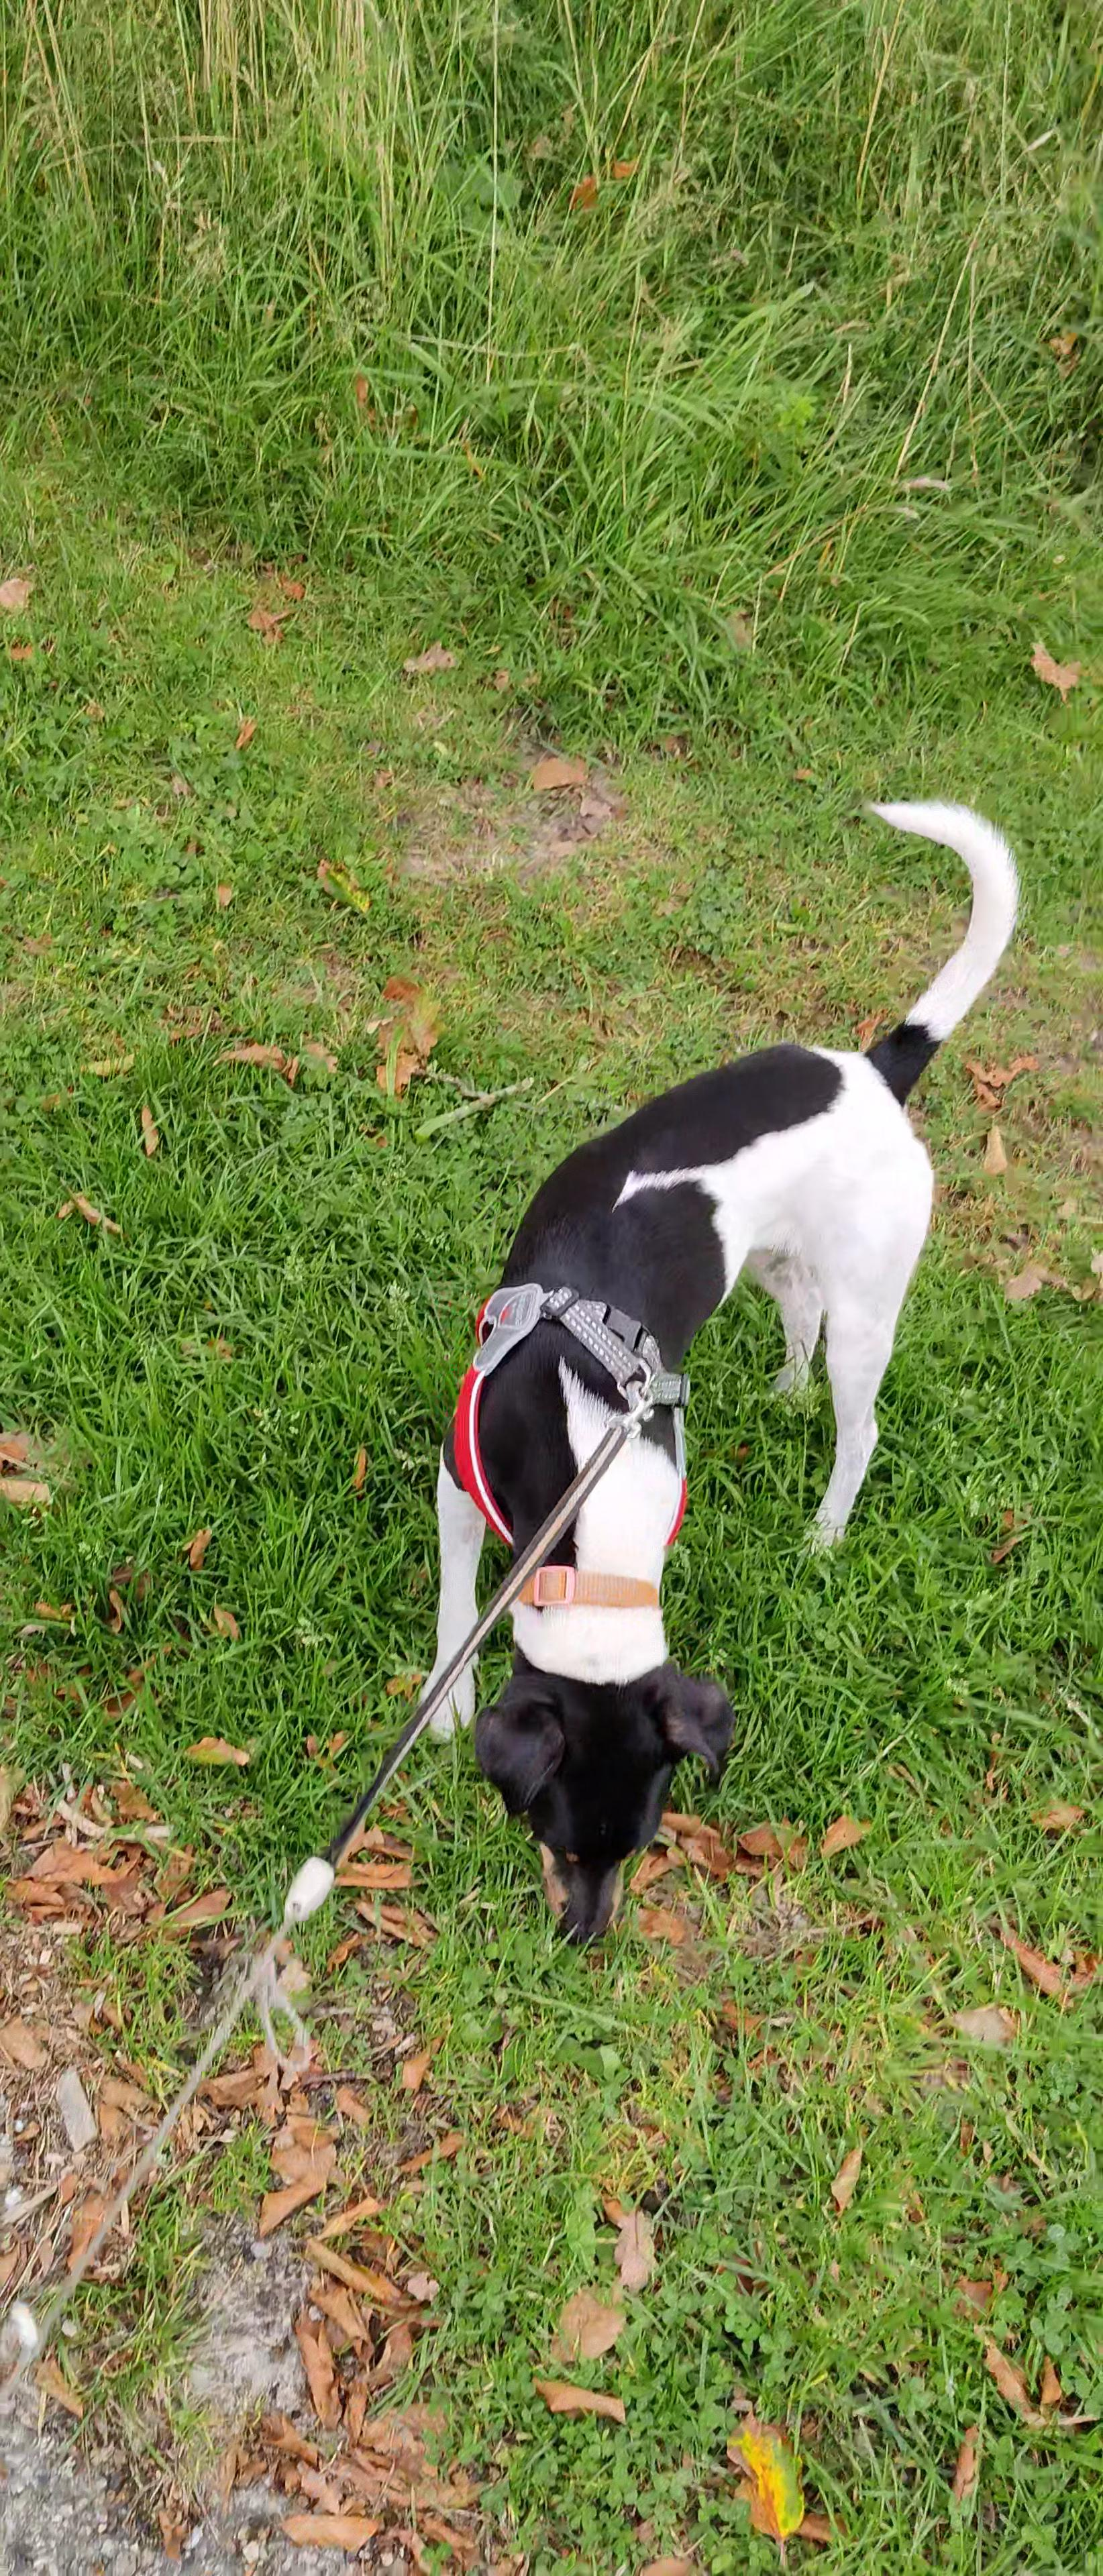Dog: (388, 777, 1044, 1953)
